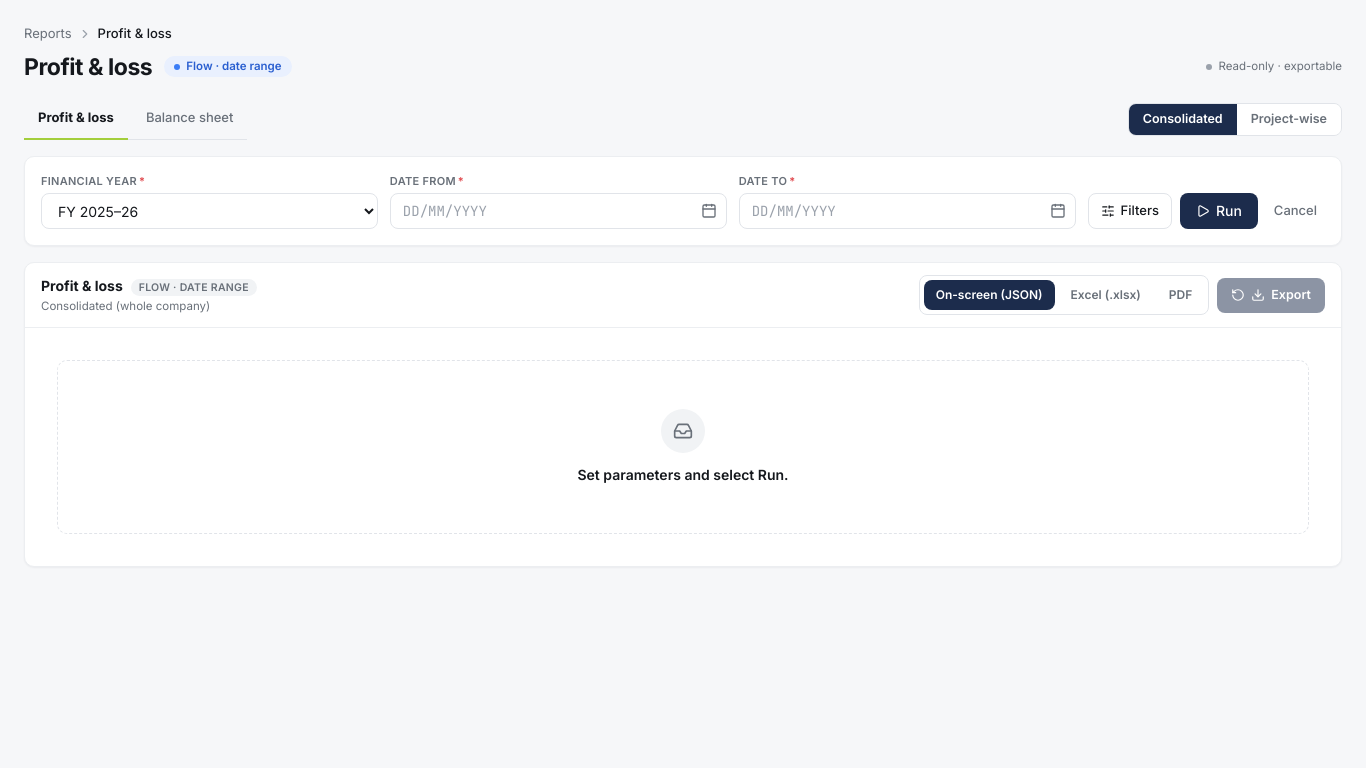
Financial statements — tab switch + per-tab time control (FR-RPT-013/-014) › switching to Balance sheet shows as-of (no date-range)
The image size is (1366, 768).
Step 1. Click the tab with test id "statement-tab-BS" → (190, 120), box [132,100,247,140]
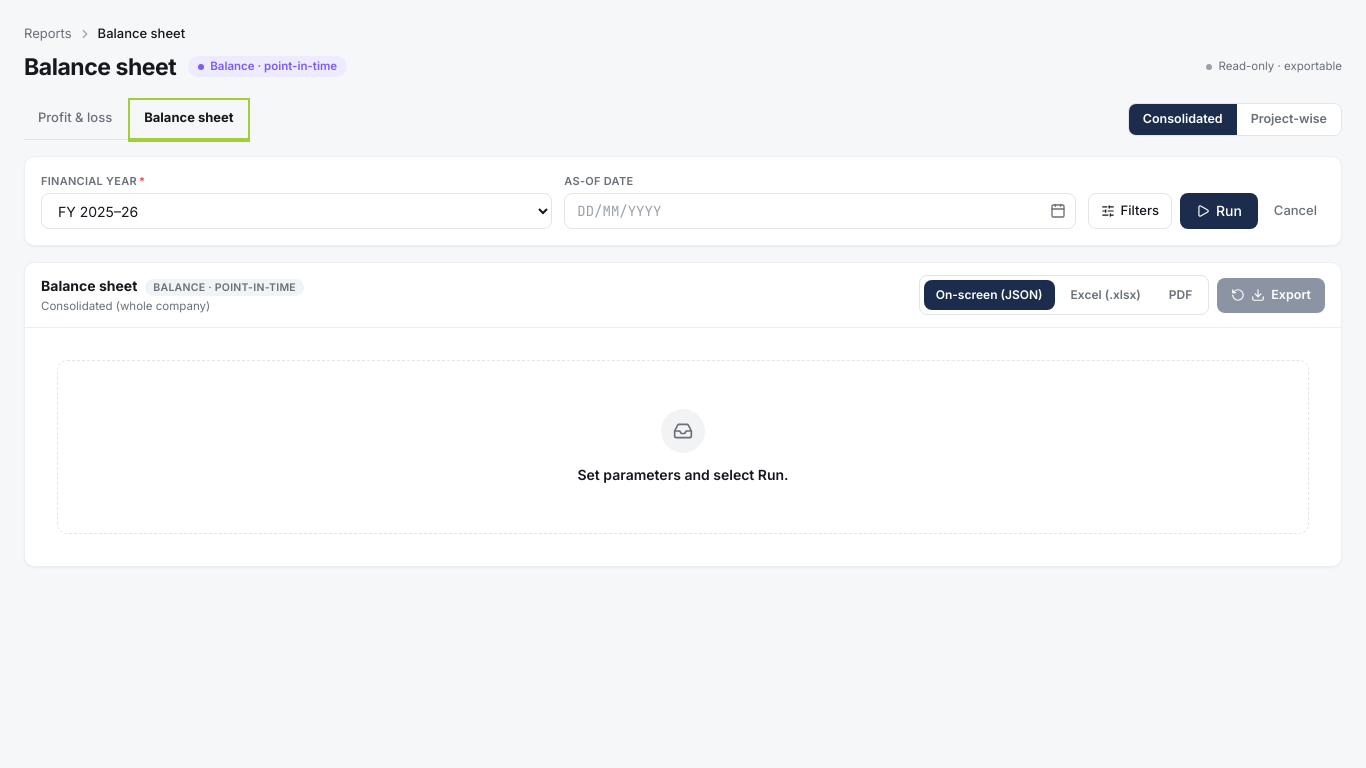
Expected: the element with test id "param-as-of" is shown, [564,193,1076,229]
Expected: the label with test id "param-date-from" is gone
